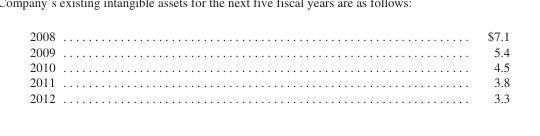table: (28, 28, 509, 104)
table column: (28, 28, 270, 104), (270, 28, 509, 104)
table row: (28, 43, 509, 59), (28, 28, 509, 43), (28, 59, 509, 74), (28, 74, 509, 89), (28, 89, 509, 104)
